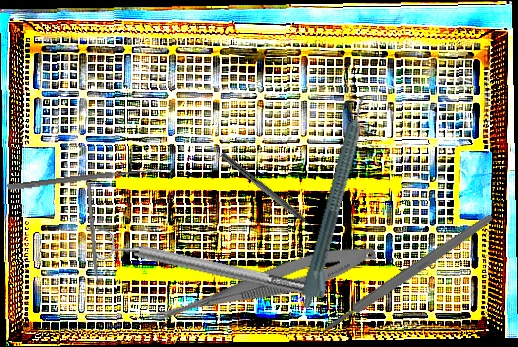Chopper: (213, 151, 325, 242)
Fixation Ring: (90, 224, 313, 308)
Handpiece: (297, 93, 380, 313)
Micro Scissor: (142, 233, 381, 340)
Pusher: (86, 182, 101, 300)
Scalpel Handle: (320, 211, 497, 335)
Surgical Spoon: (7, 165, 162, 192)
